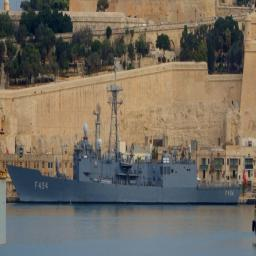Fragata: (3, 61, 243, 212)
